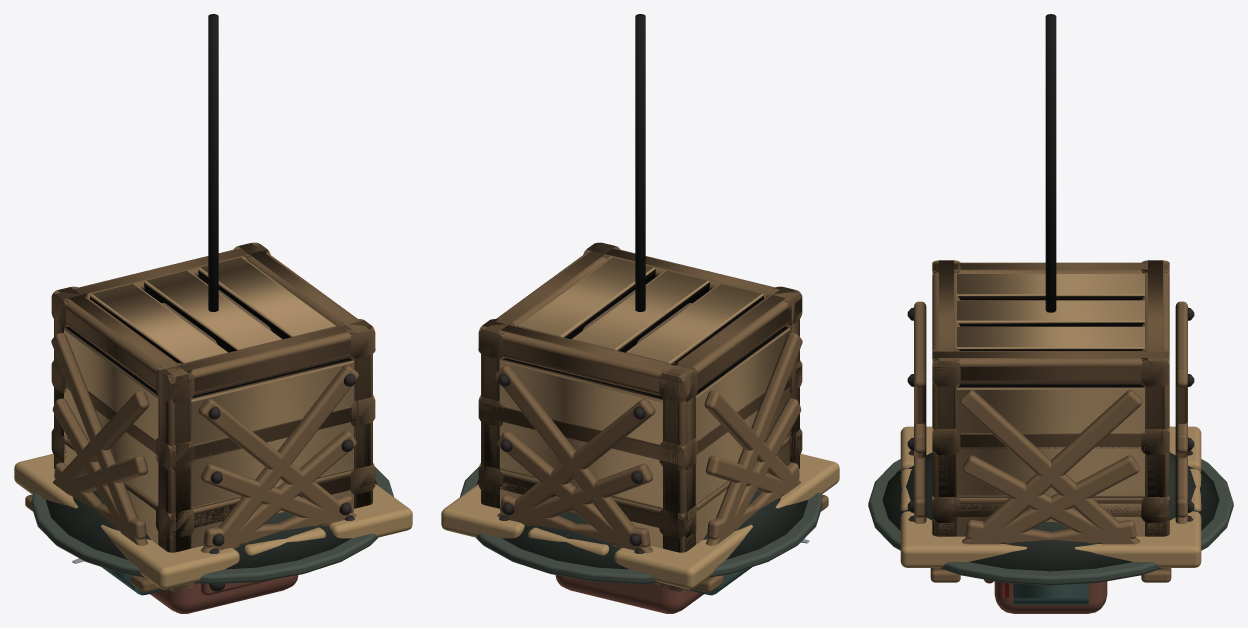
File: props.glb
The picture shows the model from 3 angles, left to right: view 1: azimuth 30°, elevation 25°; view 2: azimuth 150°, elevation 25°; view 3: azimuth 270°, elevation 25°; orthographic projection.
Parts seen in each view (by area): view 1: edge_x1-1, slat_f2, board0, rim, edge_y1-1, shade, slat_t1, slat_t2, slat_t0, edge_v-1-1, slat_l2, x_f-1 (+32 smaller); view 2: edge_x11, slat_b2, board0, rim, edge_y1-1, shade, slat_t1, slat_t2, slat_t0, edge_v-11, slat_l2, x_b-1 (+29 smaller); view 3: slat_r2, edge_y11, board2, shade, rim, slat_t0, slat_t1, slat_t2, x_r1, x_r-1, slat_r1, cord (+28 smaller).
Part boxes in pixels (x1,y1,x2,y2): edge_x1-1: [156, 320, 375, 401]; slat_f2: [191, 358, 353, 445]; board0: [14, 454, 239, 589]; rim: [31, 467, 393, 584]; edge_y1-1: [53, 287, 194, 402]; shade: [45, 480, 377, 569]; slat_t1: [144, 270, 282, 352]; slat_t2: [198, 257, 336, 339]; slat_t0: [90, 283, 228, 363]; edge_v-1-1: [158, 363, 192, 552]; slat_l2: [64, 326, 158, 440]; x_f-1: [200, 365, 358, 553]; edge_x11: [478, 320, 697, 401]; slat_b2: [500, 358, 662, 445]; board0: [614, 454, 839, 589]; rim: [460, 467, 822, 584]; edge_y1-1: [659, 287, 802, 402]; shade: [476, 480, 808, 569]; slat_t1: [571, 270, 709, 352]; slat_t2: [517, 257, 655, 339]; slat_t0: [625, 283, 763, 363]; edge_v-11: [661, 363, 695, 552]; slat_l2: [695, 326, 789, 441]; x_b-1: [495, 365, 653, 553]; slat_r2: [957, 384, 1144, 433]; edge_y11: [932, 351, 1169, 384]; board2: [900, 511, 1201, 567]; shade: [882, 452, 1219, 571]; rim: [868, 459, 1233, 585]; slat_t0: [957, 273, 1144, 300]; slat_t1: [957, 300, 1144, 326]; slat_t2: [957, 326, 1144, 350]; x_r1: [962, 390, 1142, 544]; x_r-1: [959, 390, 1139, 544]; slat_r1: [957, 447, 1144, 489]; cord: [1045, 14, 1056, 312].
Bounding box in the file's own units: 4.86 × 8.4 × 4.86.
